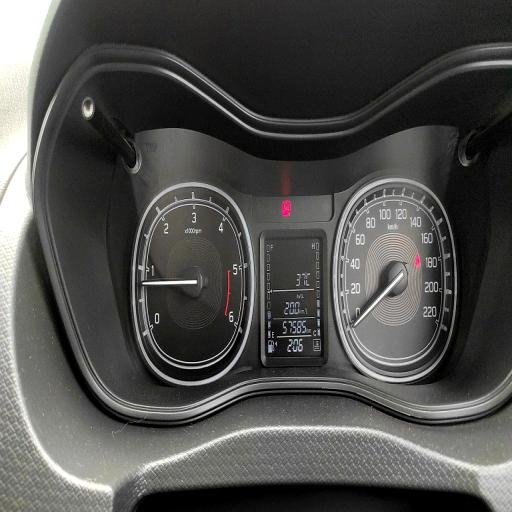brake_system_fault: (282, 200, 290, 212)
tachometer: (132, 182, 255, 385)
